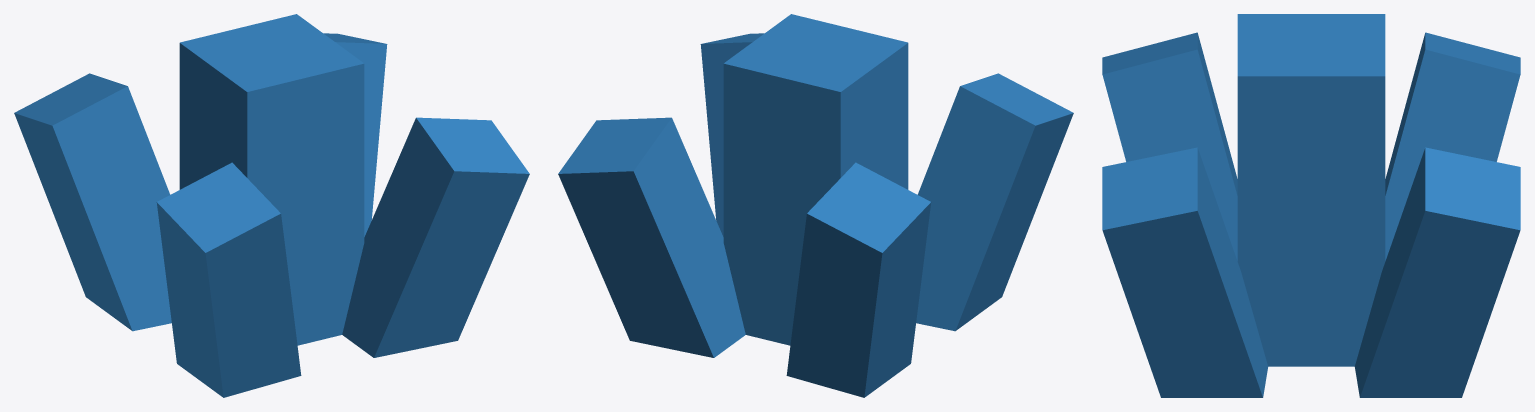
Rendered from crystal1.obj.
3 views of the same model, side by side, from view 1: azimuth 30°, elevation 25°; view 2: azimuth 150°, elevation 25°; view 3: azimuth 270°, elevation 25° (orthographic). The views are drawn at different scales.
Parts seen in each view (by area): view 1: middle_Cube.004, Cube.002, Cube, Cube.001, Cube.003; view 2: middle_Cube.004, Cube.003, Cube.001, Cube, Cube.002; view 3: middle_Cube.004, Cube.002, Cube.003, Cube, Cube.001.
Part boxes in pixels (left/top/right/bottom): middle_Cube.004: left=179, top=14, right=364, bottom=345; Cube.002: left=342, top=117, right=529, bottom=357; Cube: left=14, top=73, right=171, bottom=331; Cube.001: left=156, top=162, right=301, bottom=397; Cube.003: left=323, top=33, right=387, bottom=236; middle_Cube.004: left=723, top=14, right=908, bottom=345; Cube.003: left=558, top=117, right=745, bottom=357; Cube.001: left=916, top=73, right=1073, bottom=331; Cube: left=786, top=162, right=931, bottom=397; Cube.002: left=700, top=33, right=764, bottom=236; middle_Cube.004: left=1237, top=14, right=1385, bottom=366; Cube.002: left=1102, top=147, right=1268, bottom=397; Cube.003: left=1354, top=147, right=1520, bottom=397; Cube: left=1385, top=32, right=1520, bottom=260; Cube.001: left=1102, top=32, right=1237, bottom=260.
Size of the model in its own units: 0.8566 by 0.65 by 0.8485.
